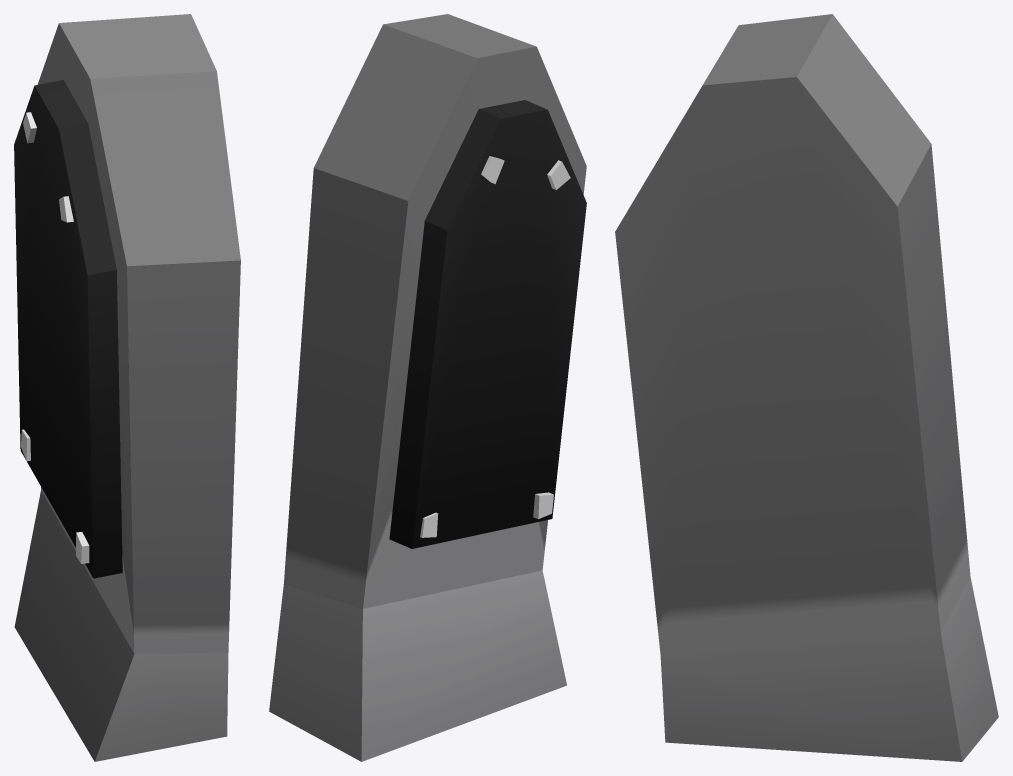
The model's file is ea_grave_stone_mini_02a_pre__1__lev1.glb.
3 renders of one model, left to right at view 1: azimuth 30°, elevation 25°; view 2: azimuth 150°, elevation 25°; view 3: azimuth 270°, elevation 25°, orthographic. The views are drawn at different scales.
Visible parts, largest first — view 1: ea_grave_stone_mini_02a_pre__1__lev1; view 2: ea_grave_stone_mini_02a_pre__1__lev1; view 3: ea_grave_stone_mini_02a_pre__1__lev1.
Boxes of the visible parts, left/top/right/bottom form: ea_grave_stone_mini_02a_pre__1__lev1: left=14, top=14, right=240, bottom=761; ea_grave_stone_mini_02a_pre__1__lev1: left=269, top=14, right=586, bottom=761; ea_grave_stone_mini_02a_pre__1__lev1: left=615, top=14, right=998, bottom=761.
Bounding box in the file's own units: 0.2957 × 0.9954 × 0.4968.
Materials: 2 (1 with a texture image).
